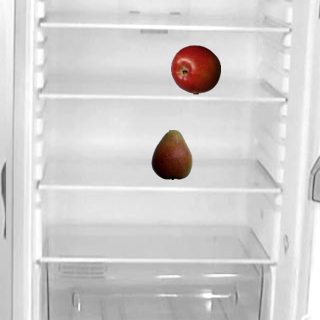Apple Braeburn: (170, 44, 220, 94)
Pear Forelle: (146, 129, 196, 179)
